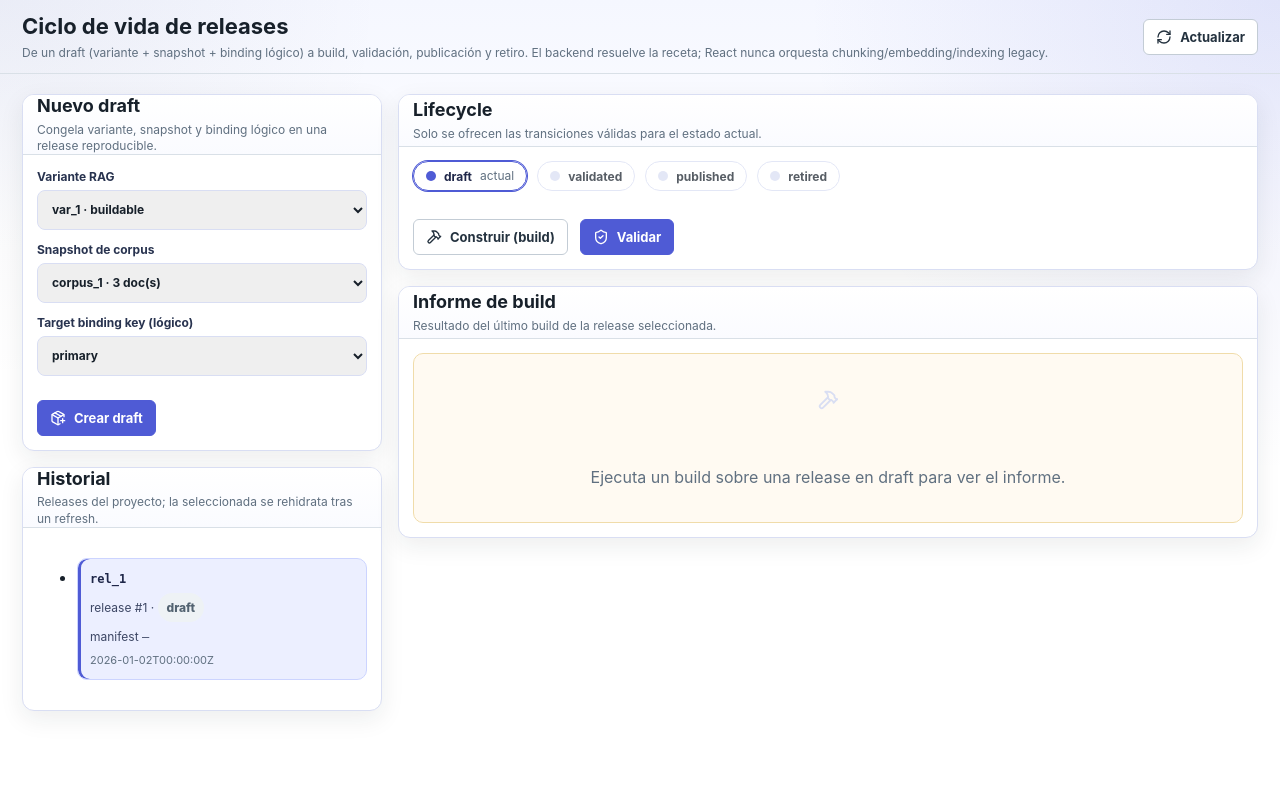
Scenario: RagReleaseWorkspace › (d) 409 IDEMPOTENCY_KEY_CONFLICT: muestra conflicto y no reintenta solo
This screenshot has width=1280, height=800.
What coordinates should you click on to do the following:
click the button "Construir (build)"
I would click on:
 (490, 237)
Its box is [413,219,568,255].
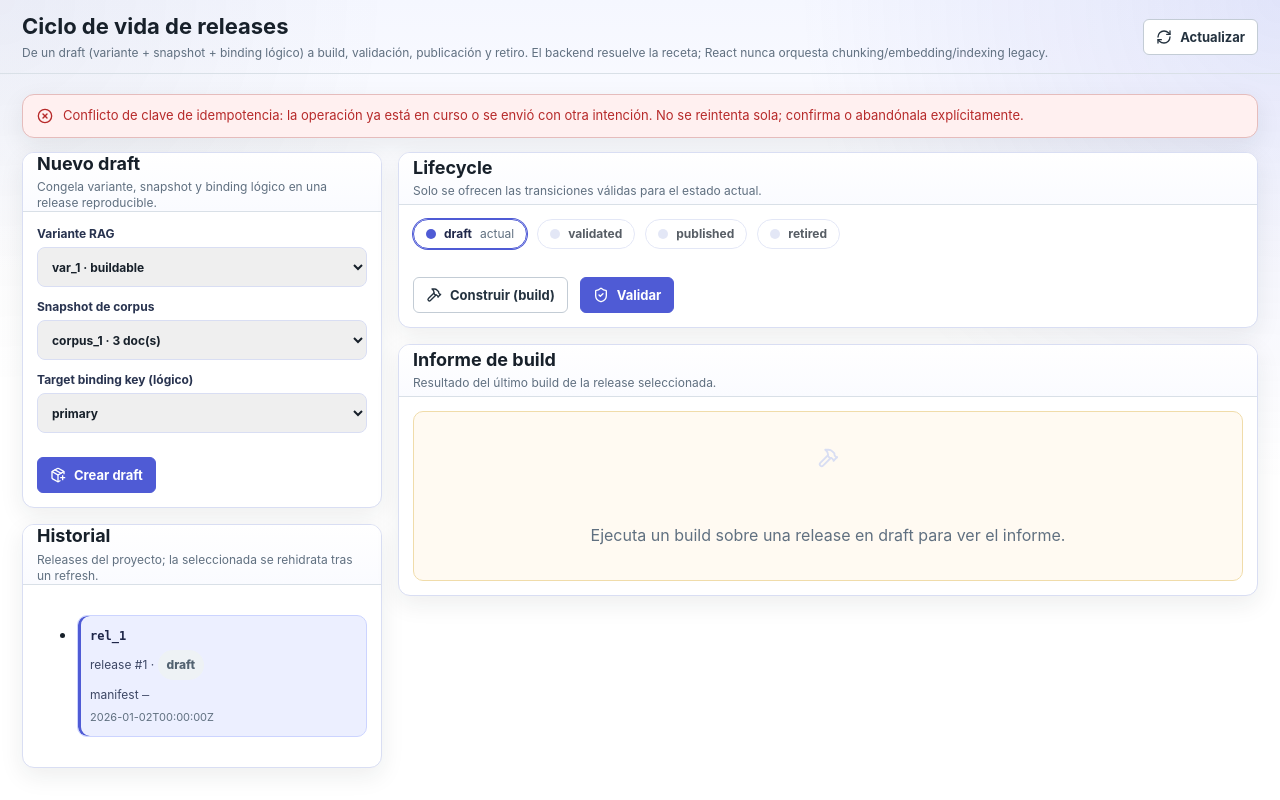
Expected: the text "Conflicto de clave de idempotencia" is shown, [63,107,1024,123]
